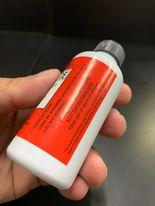-Bottle-: (6, 40, 126, 190)
